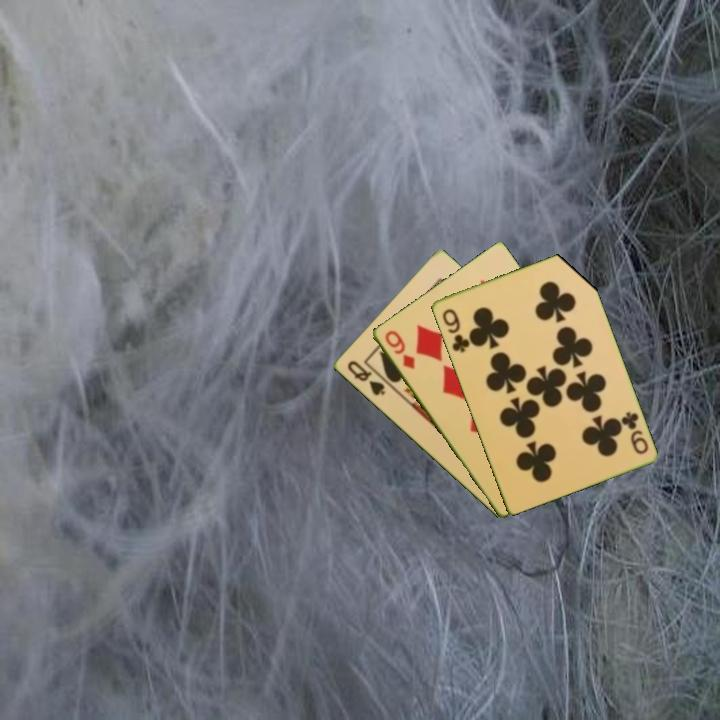9c: (438, 305, 472, 356), (617, 408, 651, 457)
9d: (381, 326, 418, 372)
Qs: (343, 357, 388, 399)
